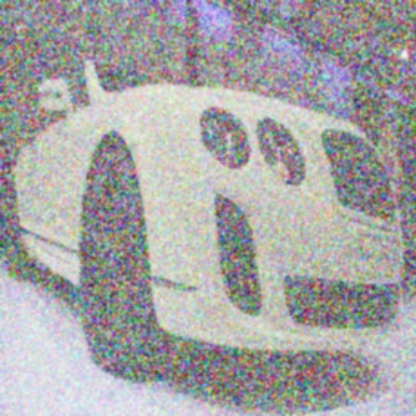Vehicle: (7, 60, 404, 376)
